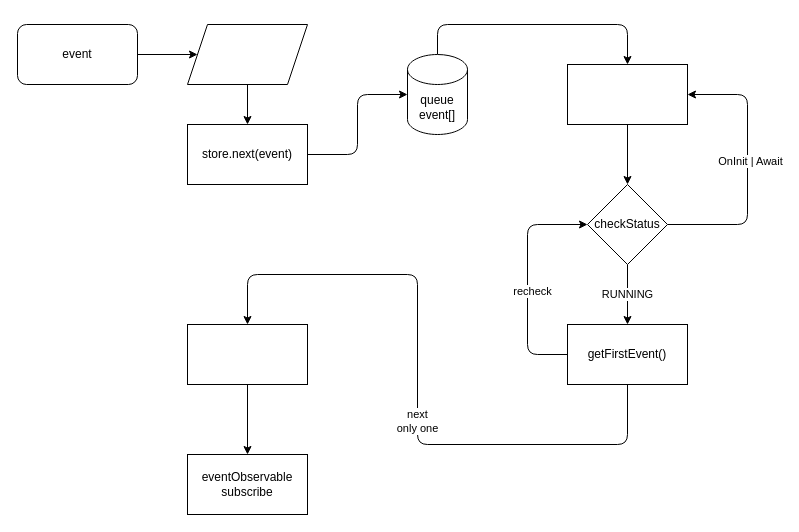
This 799x532 diagram has some shape labels left out. The centre of each missing label's shape, as x and y in pixels:
addToQueue: [247,54]
eventObservable: [247,354]
subscribe(newstore): [627,94]
